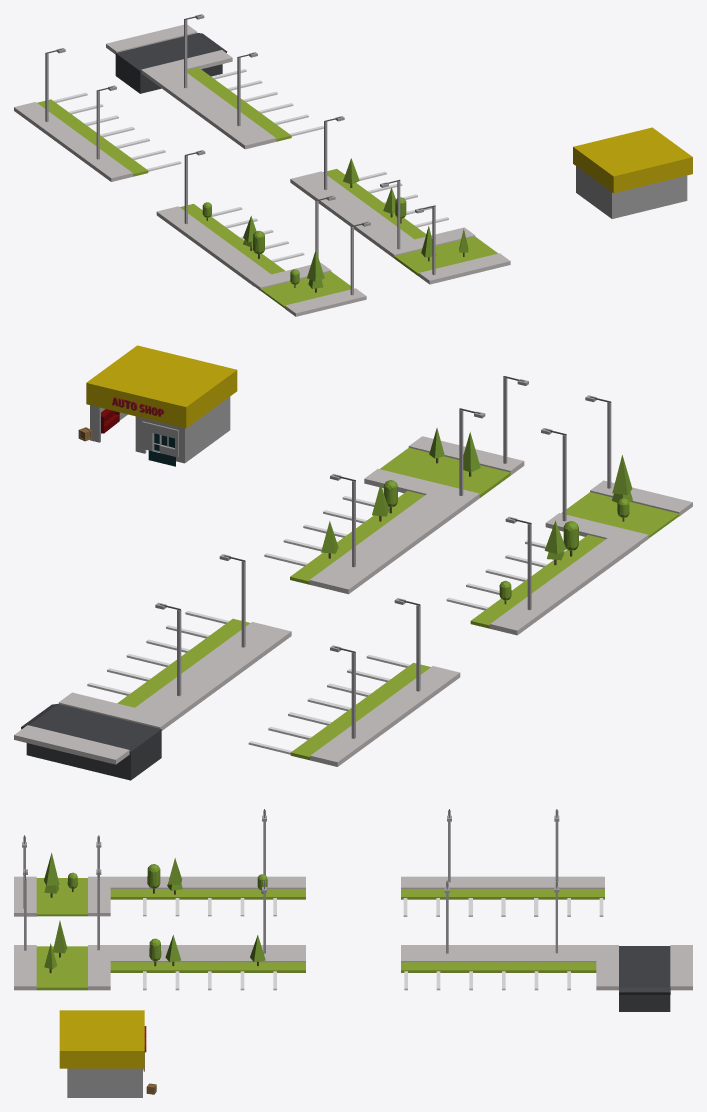
The model's file is main_menu_map_expansion.fbx.
The picture shows the model from 3 angles, top to bottom: view 1: azimuth 30°, elevation 25°; view 2: azimuth 150°, elevation 25°; view 3: azimuth 270°, elevation 25°; orthographic projection. The views are drawn at different scales.
Parts seen in each view (by area): view 1: Cube.905_Cube.3610, Cube.905_Cube.001, Cube.007, Cube.030_Cube.042, Cube, Cube.002, Cube.004, Cube.024_Cube.001, Cube.024_Cube.004, Cube.000_Cube.007, Cube.024_Cube.041; view 2: Cube.905_Cube.3610, Cube.905_Cube.001, Cube.007, Cube, Cube.030_Cube.042, Cube.004, Cube.006, Cube.024_Cube.041, Cube.000_Cube.007, Cube.024_Cube.003, Cube.024_Cube.001, Cube.024_Cube.004; view 3: Cube.905_Cube.3610, Cube.905_Cube.001, Cube.007, Cube.030_Cube.042, Cube, Cube.005.
Part boxes in pixels (x1,y1,x2,y2): Cube.905_Cube.3610: (156,169,510,286); Cube.905_Cube.001: (14,24,291,181); Cube.007: (573,127,692,193); Cube.030_Cube.042: (249,262,366,316); Cube: (115,33,222,93); Cube.002: (612,175,687,218); Cube.004: (576,166,611,218); Cube.024_Cube.001: (227,80,323,136); Cube.024_Cube.004: (84,115,181,171); Cube.000_Cube.007: (211,207,304,262); Cube.024_Cube.041: (359,171,448,227); Cube.905_Cube.3610: (290,436,639,635); Cube.905_Cube.001: (14,618,460,766); Cube.007: (86,345,237,428); Cube: (26,704,161,780); Cube.030_Cube.042: (545,480,692,548); Cube.004: (184,397,230,462); Cube.006: (142,421,178,457); Cube.024_Cube.041: (264,496,374,566); Cube.000_Cube.007: (446,540,566,610); Cube.024_Cube.003: (248,685,368,754); Cube.024_Cube.001: (107,611,228,679); Cube.024_Cube.004: (289,654,410,723); Cube.905_Cube.3610: (14,876,305,990); Cube.905_Cube.001: (401,876,692,990); Cube.007: (59,1010,144,1068); Cube.030_Cube.042: (14,876,110,916); Cube: (619,946,670,1011); Cube.005: (67,1068,142,1097).
Size of the model in its own units: 3851 by 812 by 5140.
